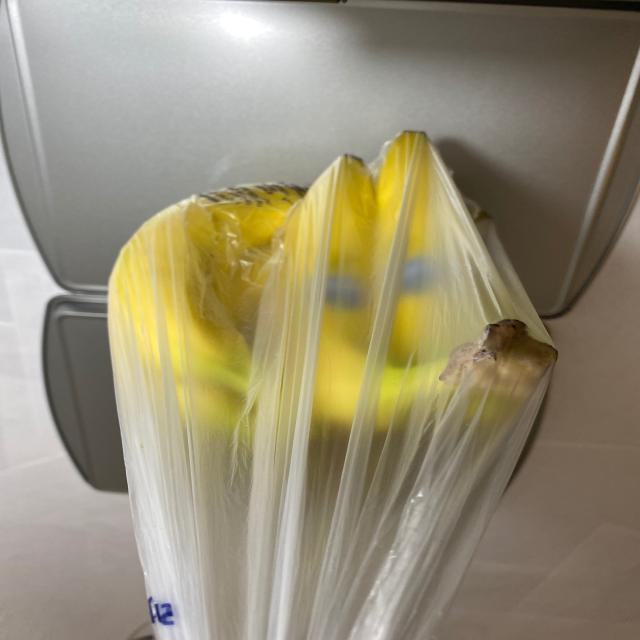banana: (100, 125, 558, 491)
